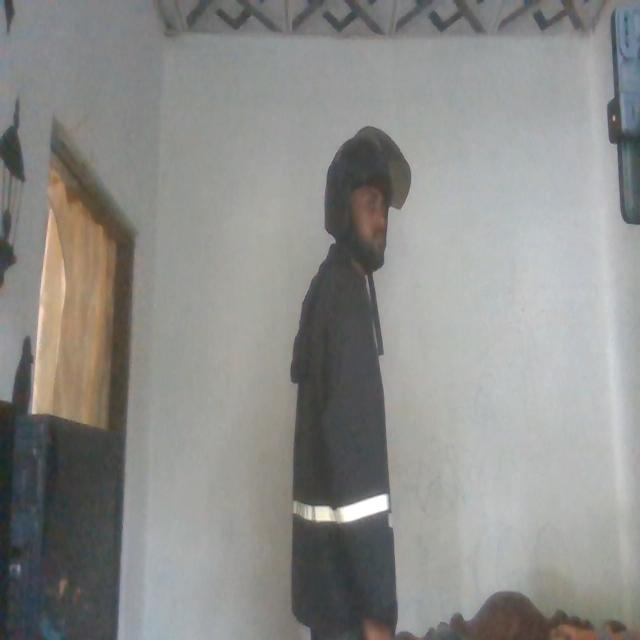Helmet_Wearer: (313, 117, 415, 271)
Jacket_Wearer: (289, 252, 399, 623)
Person: (289, 122, 422, 640)
